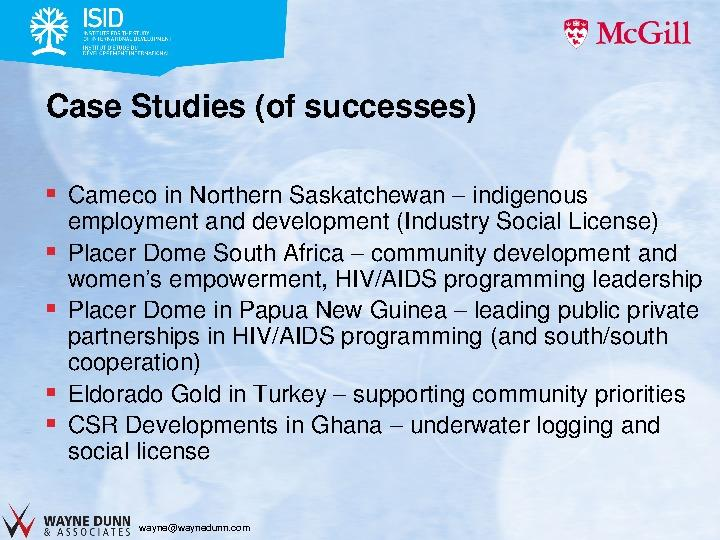paragraph: (35, 173, 720, 481)
subtitle: (40, 495, 272, 540)
title: (38, 75, 506, 139)
